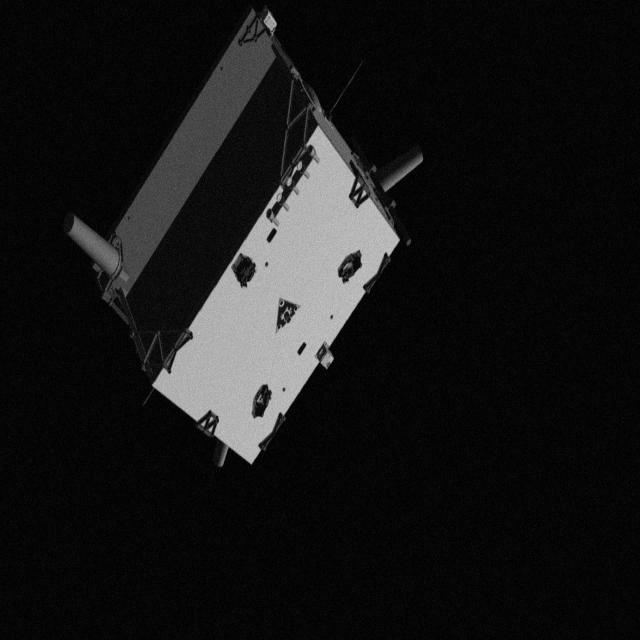satellite: (52, 4, 424, 476)
